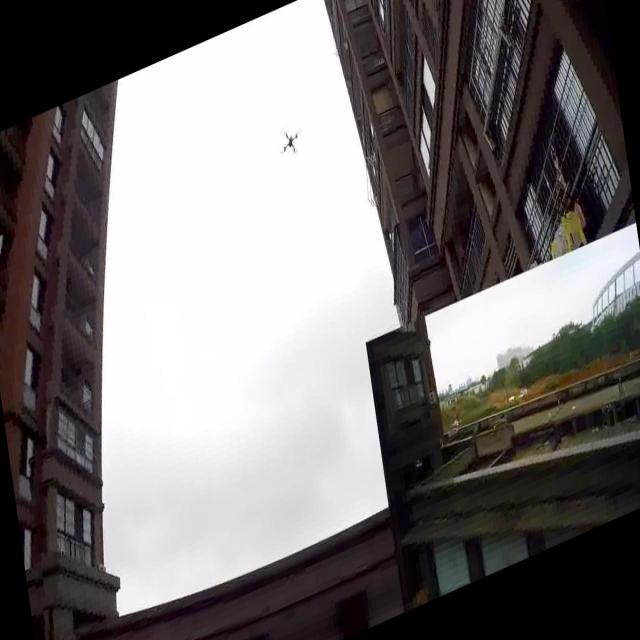drone: (274, 116, 306, 165)
